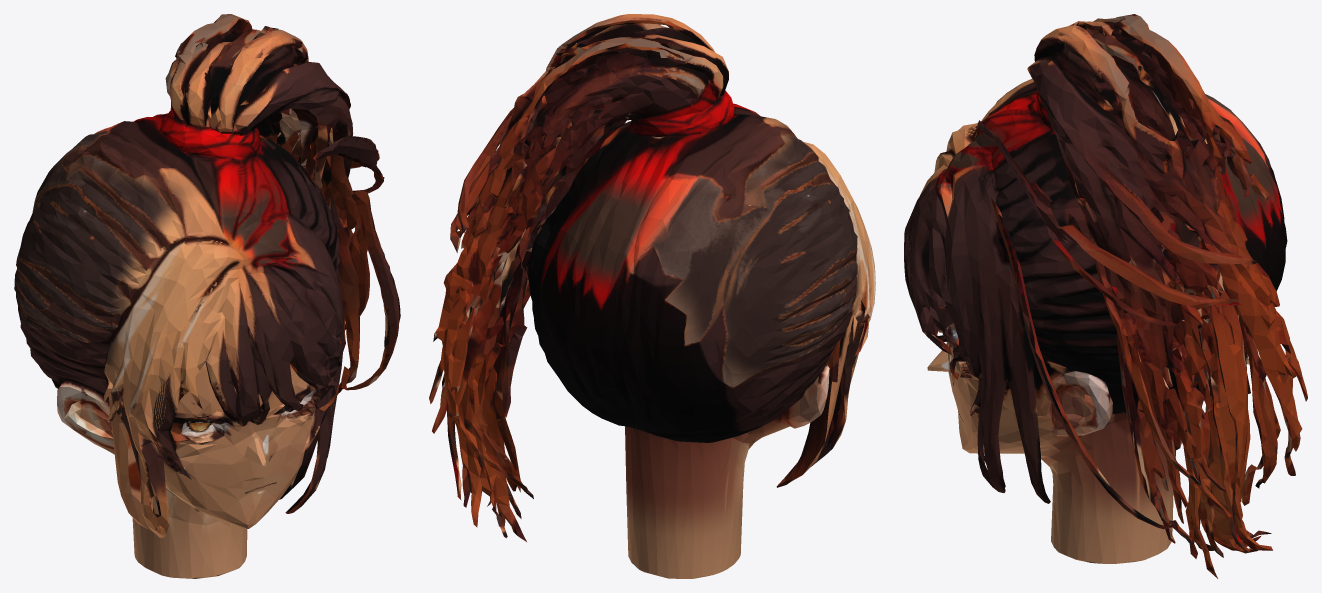
The model's file is side_akodorin_repaired_atlas.glb.
3 renders of one model, left to right at view 1: azimuth 30°, elevation 25°; view 2: azimuth 150°, elevation 25°; view 3: azimuth 270°, elevation 25°, orthographic. The views are drawn at different scales.
Parts seen in each view (by area): view 1: temp_mesh.ply; view 2: temp_mesh.ply; view 3: temp_mesh.ply.
Part boxes in pixels (x1,y1,x2,y2): temp_mesh.ply: (14, 14, 400, 578); temp_mesh.ply: (429, 14, 875, 578); temp_mesh.ply: (904, 14, 1307, 578).
Size of the model in its own units: 1.44 by 1.97 by 1.35.
1 material, 1 textured.
